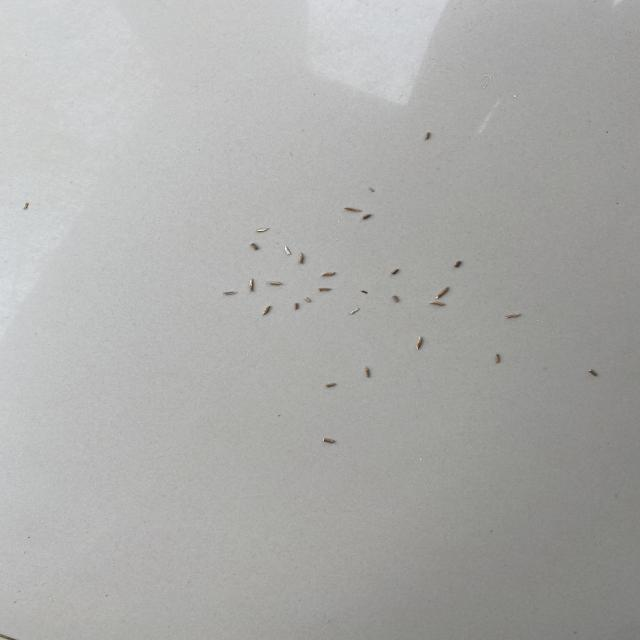Wereng: (358, 362, 378, 384), (429, 286, 456, 302), (425, 297, 454, 309), (338, 205, 372, 215), (489, 350, 506, 370), (412, 334, 430, 352), (498, 311, 526, 322), (420, 126, 437, 144), (344, 304, 366, 317), (219, 288, 247, 298), (19, 198, 38, 212), (584, 366, 604, 378), (449, 257, 466, 271), (358, 211, 377, 223), (246, 274, 257, 294), (248, 242, 266, 254), (318, 286, 336, 298), (262, 305, 276, 320), (322, 438, 343, 448), (322, 380, 338, 393), (280, 245, 296, 257), (250, 226, 273, 234), (264, 279, 284, 288), (298, 251, 309, 267), (388, 266, 402, 278), (320, 270, 340, 278), (300, 294, 316, 304), (392, 292, 406, 303), (365, 185, 380, 194), (360, 287, 372, 297), (291, 302, 302, 312)
